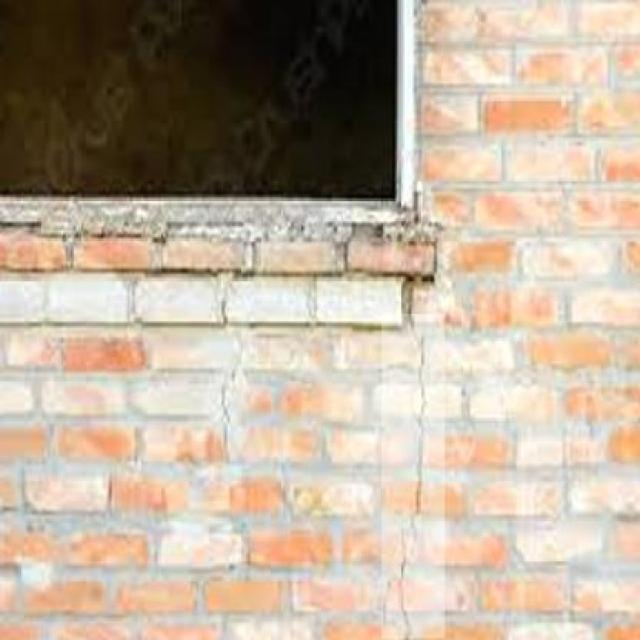Crack: (394, 286, 444, 640), (205, 315, 242, 467)
